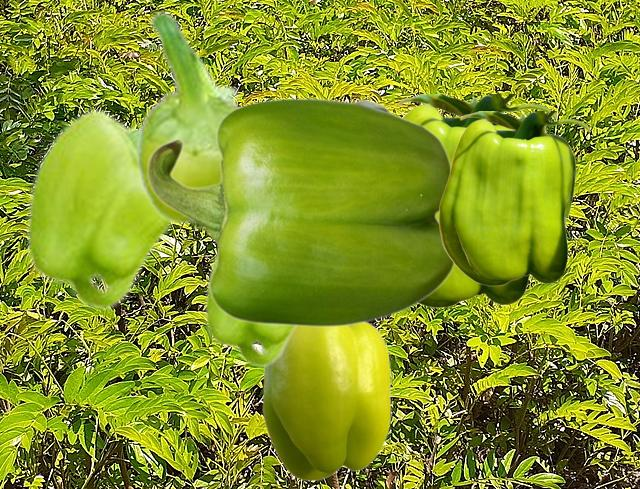bell_pepper: (146, 97, 455, 327), (24, 83, 240, 310), (397, 94, 556, 307), (438, 111, 589, 285), (135, 11, 243, 224), (262, 323, 390, 480), (203, 248, 299, 367)
